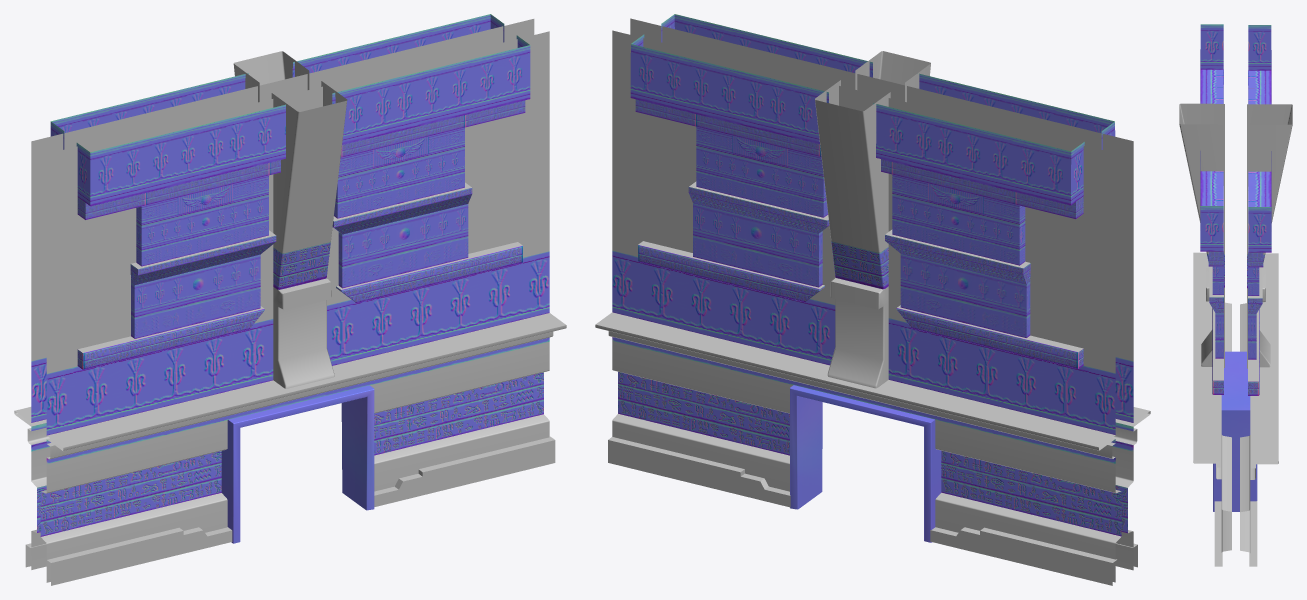
Rendered from SquareDoor.fbx.
3 views of the same model, side by side, from view 1: azimuth 30°, elevation 25°; view 2: azimuth 150°, elevation 25°; view 3: azimuth 270°, elevation 25° (orthographic). The views are drawn at different scales.
Visible parts, largest first — view 1: Squardoor; view 2: Squardoor; view 3: Squardoor.
Boxes of the visible parts, x1,y1,x2,y2 form: Squardoor: [14, 14, 566, 585]; Squardoor: [595, 14, 1150, 585]; Squardoor: [1179, 24, 1292, 566].
Bounding box in the file's own units: 1476 × 1217 × 340.
